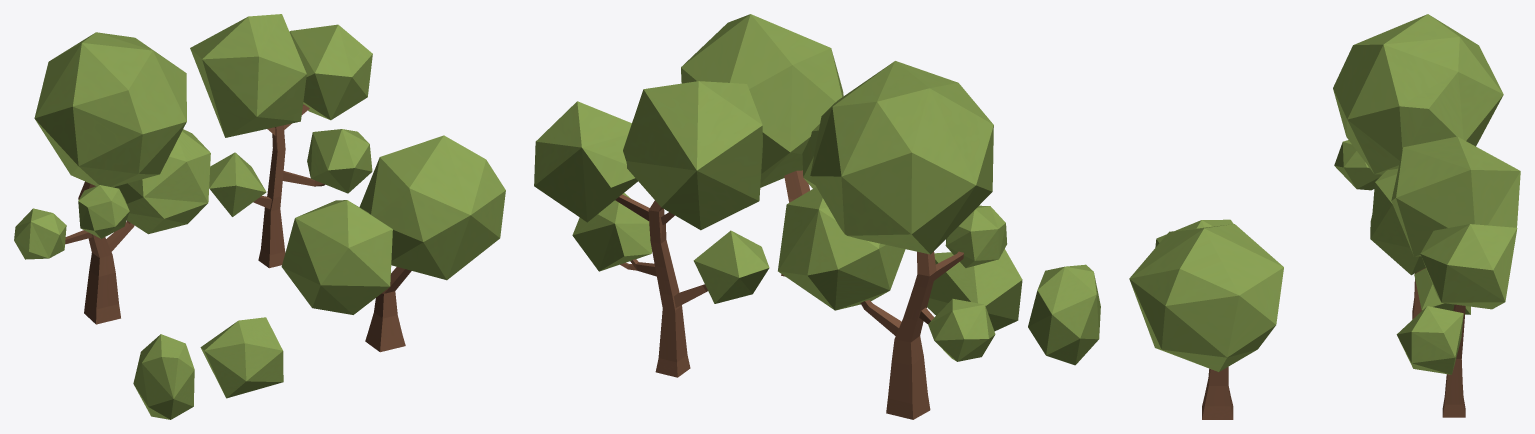
The model's file is Green.fbx.
3 renders of one model, left to right at view 1: azimuth 30°, elevation 25°; view 2: azimuth 150°, elevation 25°; view 3: azimuth 270°, elevation 25°, orthographic. The views are drawn at different scales.
Parts seen in each view (by area): view 1: Sphere.004, Sphere.008, Sphere, Sphere.009, Sphere.005, Sphere.002, bush, bush.001, Sphere.003, Tree.001, Tree, Sphere.001 (+3 smaller); view 2: Sphere.004, Sphere, Sphere.008, Sphere.005, Sphere.002, bush.001, Tree.001, Tree, bush, Sphere.003, Sphere.001, Sphere.007 (+3 smaller); view 3: Sphere.004, Sphere.008, Sphere, Sphere.002, Sphere.003, Sphere.005, Tree.002, Tree, Sphere.006, Sphere.001, Sphere.009.
Boxes of the visible parts, x1,y1,x2,y2 form: Sphere.004: (34,32,186,187); Sphere.008: (359,135,505,280); Sphere: (190,14,306,137); Sphere.009: (281,200,392,314); Sphere.005: (113,129,210,234); Sphere.002: (289,24,372,120); bush: (200,317,283,398); bush.001: (133,334,194,419); Sphere.003: (307,129,372,193); Tree.001: (65,181,134,324); Tree: (253,104,325,268); Sphere.001: (209,152,266,216); Sphere.004: (810,61,993,254); Sphere: (623,81,762,230); Sphere.008: (681,14,843,187); Sphere.005: (778,187,905,310); Sphere.002: (534,101,637,222); bush.001: (1028,264,1100,365); Tree.001: (860,251,963,419); Tree: (615,194,707,377); bush: (927,249,1022,331); Sphere.003: (572,193,652,271); Sphere.001: (693,230,769,303); Sphere.007: (928,298,995,361); Sphere.004: (1333,14,1503,174); Sphere.008: (1129,224,1283,371); Sphere: (1391,136,1520,256); Sphere.002: (1420,224,1517,309); Sphere.003: (1396,306,1463,374); Sphere.005: (1370,168,1425,275); Tree.002: (1202,366,1233,419); Tree: (1442,304,1465,417); Sphere.006: (1334,140,1381,190); Sphere.001: (1414,268,1470,314); Sphere.009: (1155,219,1233,247).
Size of the model in its own units: 1419 by 1122 by 1261.
